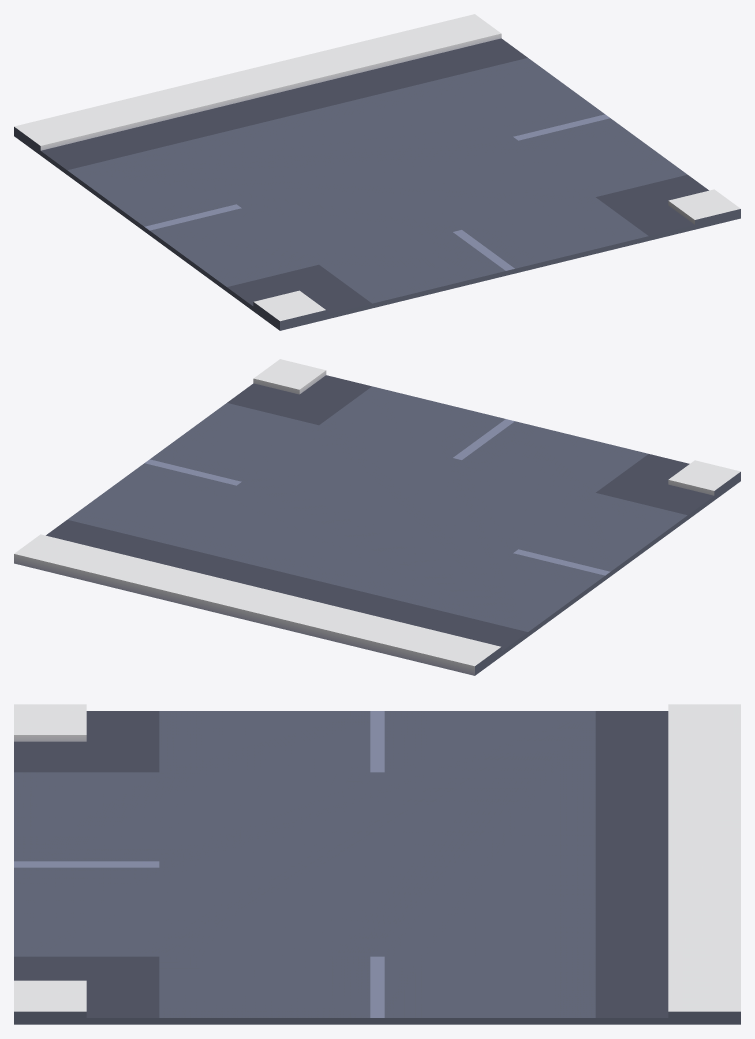
File: road-intersection.glb
3 renders of one model, top to bottom at view 1: azimuth 30°, elevation 25°; view 2: azimuth 150°, elevation 25°; view 3: azimuth 270°, elevation 25°, orthographic. The views are drawn at different scales.
Parts seen in each view (by area): view 1: road-intersection; view 2: road-intersection; view 3: road-intersection.
Part boxes in pixels (x1=…): road-intersection: x1=14, y1=14, x2=740, y2=330; road-intersection: x1=14, y1=359, x2=740, y2=675; road-intersection: x1=14, y1=704, x2=740, y2=1024.
Bounding box in the file's own units: 1 × 0.02 × 1.
Materials: 1 (1 with a texture image).
